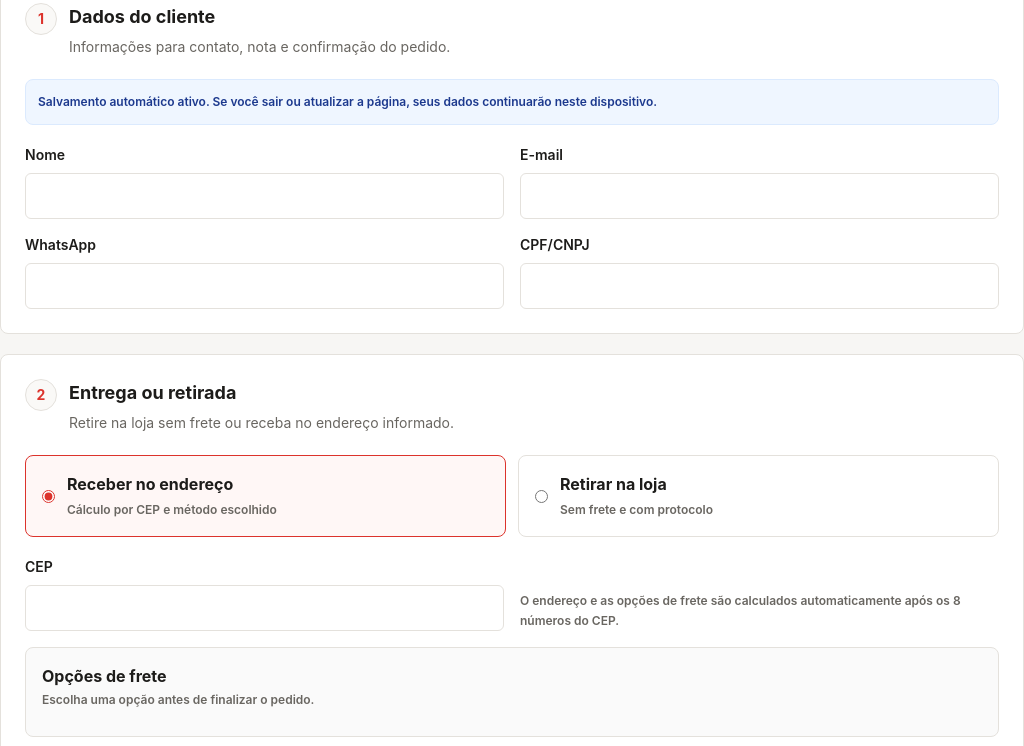
Test: Checkout - CEP e frete › mantém o cálculo de frete ativo quando o CEP é formatado pelo preenchimento automático
Step 1. Type "01001000" into the field labelled "CEP" → (264, 608), box [25,585,504,631]
(page scrolled)
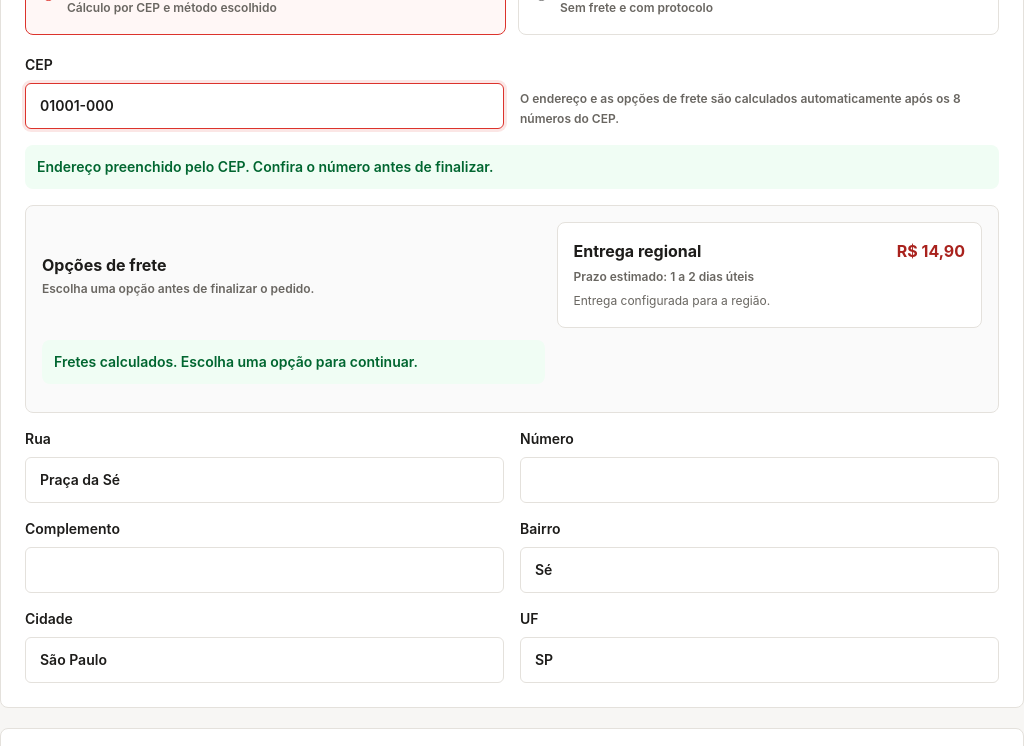
Expected: the field labelled "CEP" holds "01001-000", [25,83,504,129]
Expected: the text "Fretes calculados. Escolha uma opção para continuar." is shown, [54,352,418,372]
